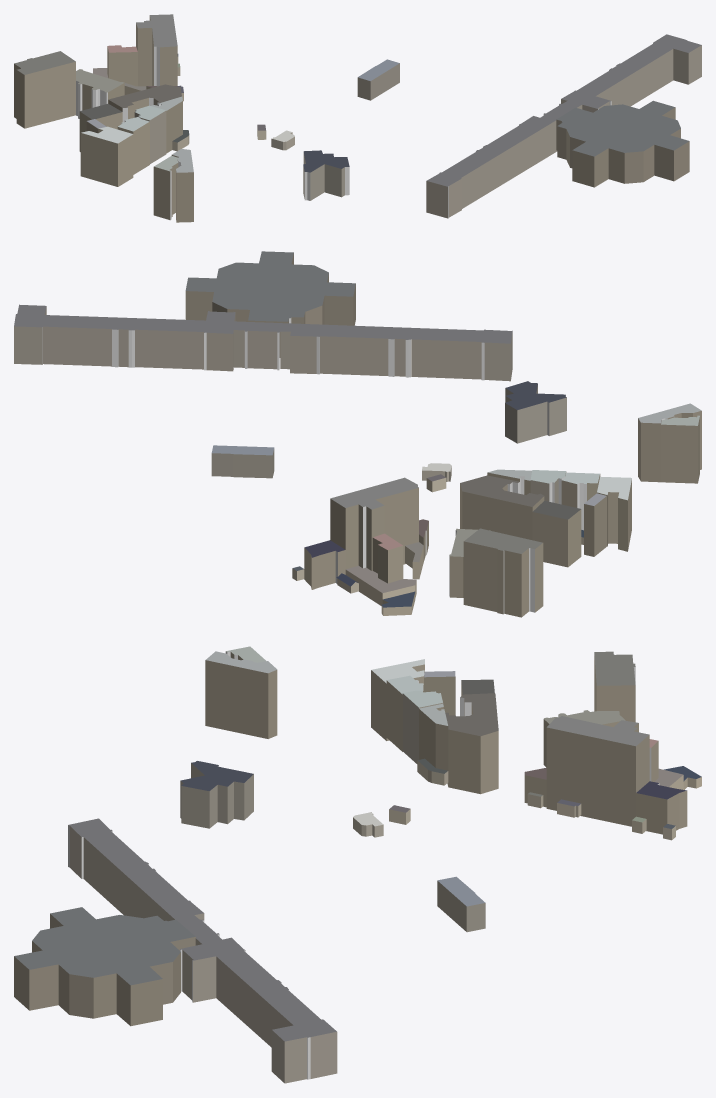
3 renders of one model, top to bottom at view 1: azimuth 30°, elevation 25°; view 2: azimuth 150°, elevation 25°; view 3: azimuth 270°, elevation 25°, orthographic. The views are drawn at different scales.
Visible parts, largest first — view 1: tuile; view 2: tuile; view 3: tuile.
Part boxes in pixels (left/top/right/bottom): tuile: left=14, top=14, right=701, bottom=222; tuile: left=14, top=251, right=701, bottom=617; tuile: left=14, top=646, right=701, bottom=1083.
Size of the model in its own units: 337 by 36.44 by 267.
